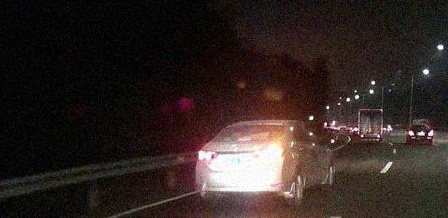L_light: (198, 150, 216, 161), (409, 131, 414, 136), (360, 135, 364, 137)
R_light: (263, 148, 285, 158), (427, 131, 433, 136), (377, 135, 380, 137)
T_light: (248, 125, 262, 128), (368, 111, 373, 112), (418, 126, 423, 127)
night-no: (195, 121, 292, 211), (358, 109, 383, 145), (408, 125, 433, 146)
